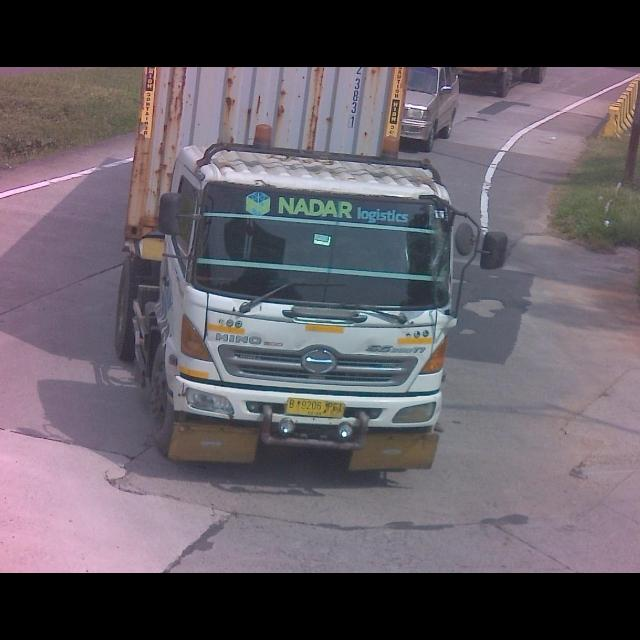plate: (286, 396, 346, 420)
